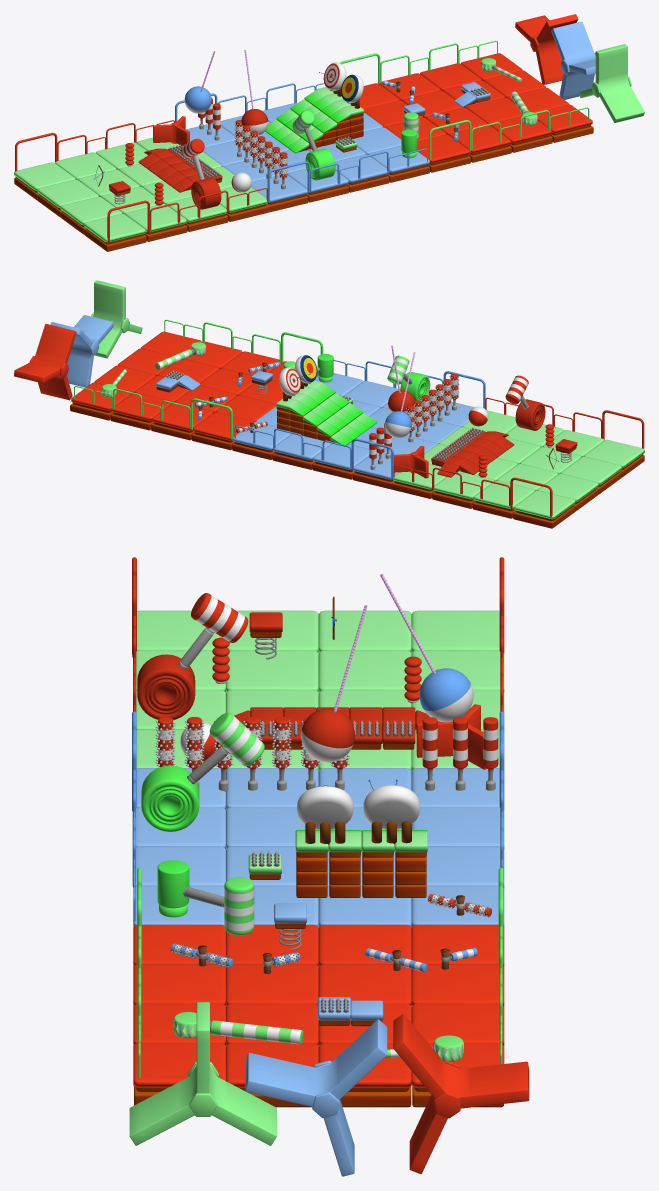
Rendered from demoscene.fbx.
3 renders of one model, top to bottom at view 1: azimuth 30°, elevation 25°; view 2: azimuth 150°, elevation 25°; view 3: azimuth 270°, elevation 25°, orthographic. The views are drawn at different scales.
Visible parts, largest first — view 1: Cube.036, Cube.038, Cube.063, Cube.060, Cylinder.078, Cylinder.075, Cylinder.074, Cube.072, Cylinder.073, Cylinder.057, Cube.050, Cube.068 (+15 smaller); view 2: Cube.038, Cube.036, Cube.063, Cube.060, Cylinder.074, Cylinder.075, Cylinder.078, Cube.072, Cylinder.073, Cylinder.057, Cube.050, Cube.057 (+15 smaller); view 3: Cube.036, Cube.063, Cube.038, Cube.060, Cylinder.074, Cylinder.075, Cylinder.078, Cylinder.057, Cylinder.073, Cube.072, Cylinder.056, Cube.053 (+15 smaller).
Part boxes in pixels (x1,y1,x2,y2): Cube.036: (359, 53, 593, 172); Cube.038: (14, 137, 269, 251); Cube.063: (186, 103, 429, 212); Cube.060: (265, 87, 364, 153); Cylinder.078: (579, 44, 644, 122); Cylinder.075: (551, 21, 595, 99); Cylinder.074: (515, 14, 578, 84); Cube.072: (234, 120, 288, 189); Cylinder.073: (181, 138, 221, 209); Cylinder.057: (292, 110, 335, 180); Cube.050: (138, 152, 193, 192); Cube.068: (107, 188, 267, 242); Cube.038: (391, 410, 644, 528); Cube.036: (70, 331, 317, 450); Cube.063: (232, 373, 473, 489); Cube.060: (276, 380, 377, 445); Cylinder.074: (14, 323, 76, 400); Cylinder.075: (50, 315, 113, 387); Cylinder.078: (91, 280, 142, 358); Cube.072: (406, 373, 459, 442); Cylinder.073: (505, 375, 545, 430); Cylinder.057: (387, 355, 430, 400); Cube.050: (459, 435, 514, 474); Cube.057: (234, 426, 393, 479); Cube.036: (133, 924, 504, 1107); Cube.063: (133, 768, 504, 927); Cube.038: (136, 610, 504, 770); Cube.060: (295, 830, 427, 897); Cylinder.074: (393, 1014, 529, 1173); Cylinder.075: (245, 1019, 387, 1176); Cylinder.078: (129, 1002, 276, 1145); Cylinder.057: (141, 712, 264, 831); Cylinder.073: (137, 593, 248, 719); Cube.072: (155, 717, 349, 791); Cylinder.056: (157, 860, 254, 935); Cube.053: (422, 717, 498, 790).
Size of the model in its own units: 1472 by 326 by 476.
2 materials, 1 textured.
